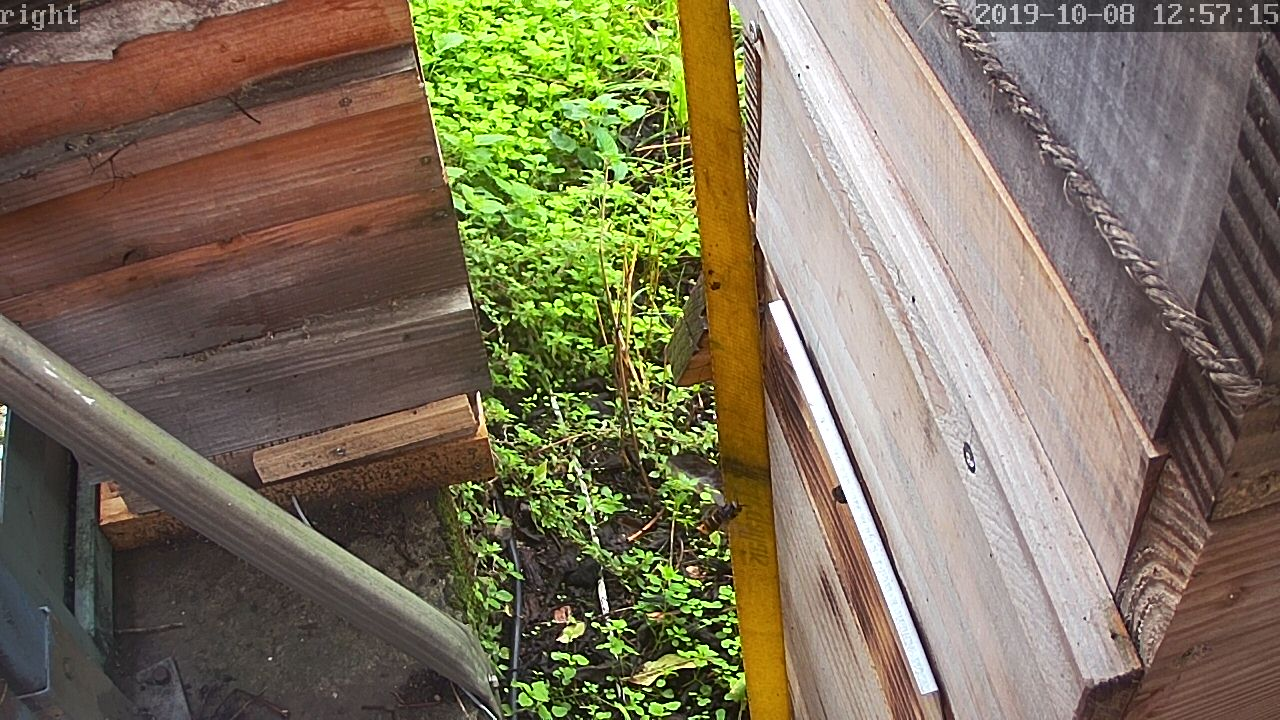bee: (822, 478, 852, 515)
hornet: (693, 491, 749, 539)
